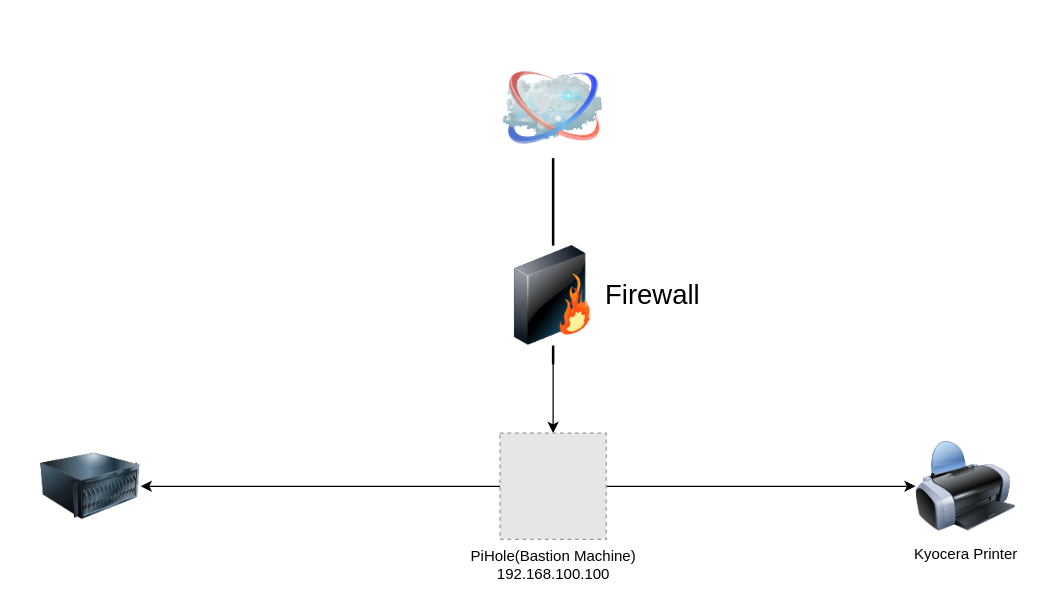
Some shapes in this 1039 by 605 pixel diagram are drawn without their labels. Grey dashed boxes stand in for pictures. The centre of each missing label's shape, as x and y in pixels:
Internet: [552,108]
Ubuntu (Dev Server): [90,486]
